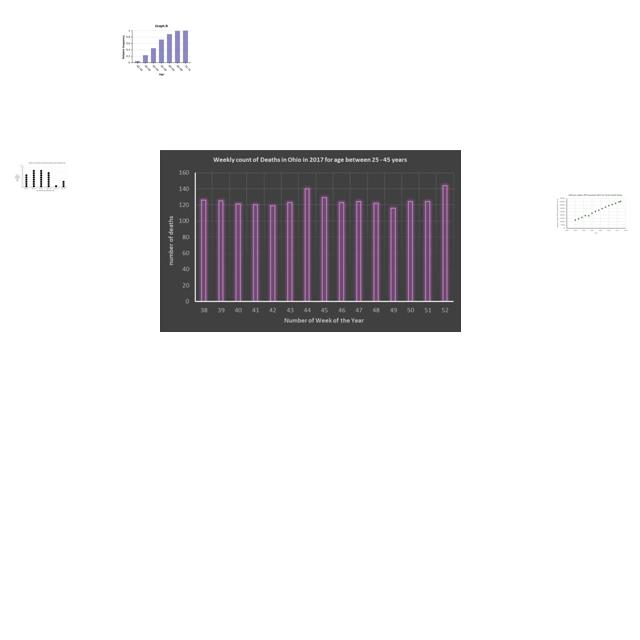Graph: (160, 150, 461, 332), (121, 23, 195, 76), (555, 192, 629, 236), (14, 162, 68, 192)
